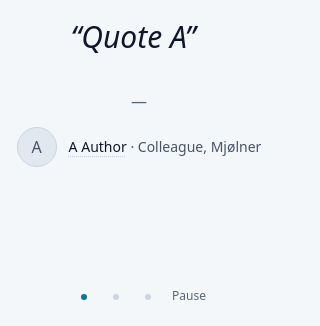
Test: <RecommendationsCarousel /> › horizontal swipe left advances; swipe right moves back (wraps)
The image size is (320, 326).
Press the mouse on the element named "Recommendations" at (133, 36), box [17,16,261,309]
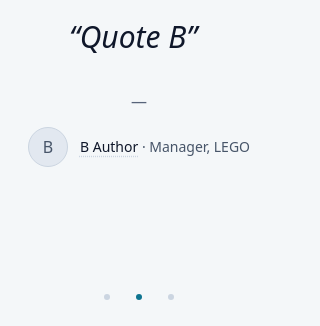
Result: the text "“Quote B”" is shown at [69,16,197,57]
Press the mouse on the element named "Recommendations" at (133, 36), box [28,16,250,309]
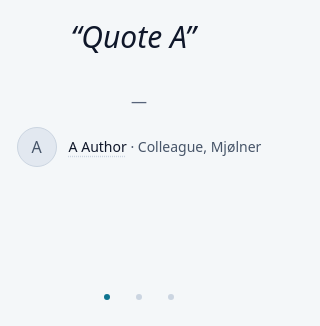
Result: the text "“Quote A”" is shown at [71,16,196,57]
